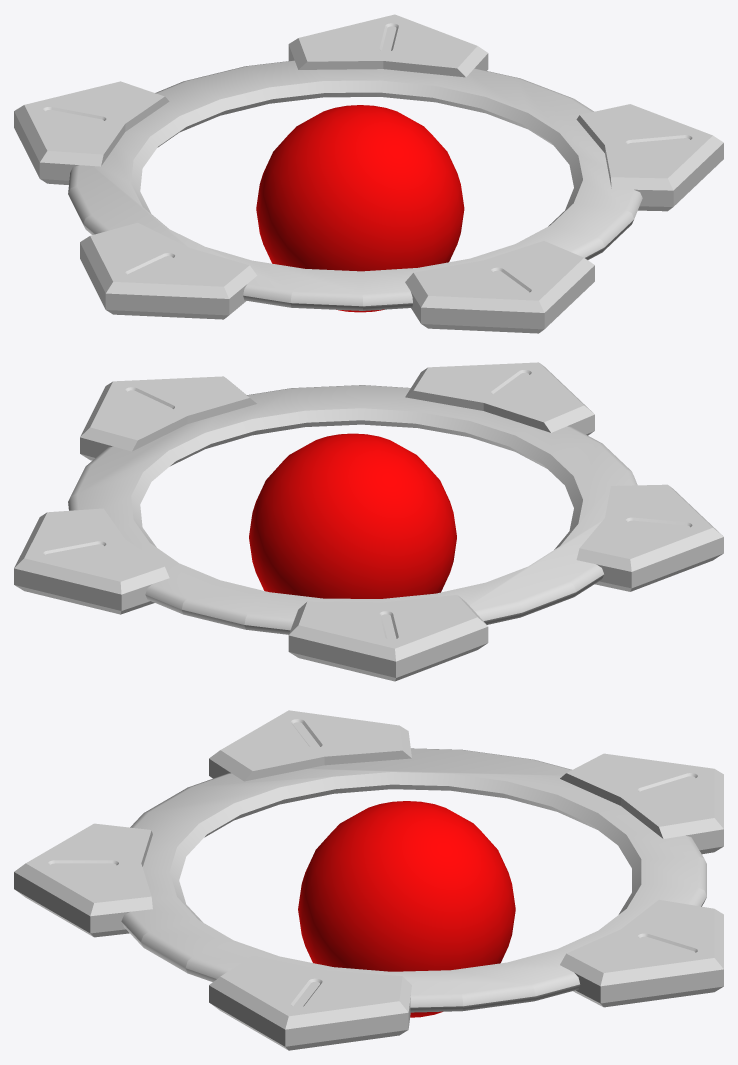
File: DiskPrototypeV1.fbx
The picture shows the model from 3 angles, top to bottom: view 1: azimuth 30°, elevation 25°; view 2: azimuth 150°, elevation 25°; view 3: azimuth 270°, elevation 25°; orthographic projection. The views are drawn at different scales.
Parts seen in each view (by area): view 1: Model, Component_5_1, Component_3_5, Component_3_9, Component_3_4, Component_3_7, Component_3_2, Component_3_10, Component_3_1, Component_3_8, Component_3_6; view 2: Model, Component_5_1, Component_3_7, Component_3_2, Component_3_9, Component_3_4, Component_3_5, Component_3_6, Component_3_3, Component_3_1; view 3: Model, Component_5_1, Component_3_4, Component_3_2, Component_3_5, Component_3_7, Component_3_9, Component_3_8, Component_3_3, Component_3_10.
Boxes of the visible parts, box(x1,y1,x2,y2) form: Model: box(68, 60, 642, 310); Component_5_1: box(256, 105, 464, 312); Component_3_5: box(405, 241, 594, 321); Component_3_9: box(80, 222, 257, 307); Component_3_4: box(576, 104, 723, 198); Component_3_7: box(14, 81, 169, 172); Component_3_2: box(288, 14, 488, 77); Component_3_10: box(411, 273, 594, 333); Component_3_1: box(80, 251, 246, 319); Component_3_8: box(638, 151, 723, 211); Component_3_6: box(14, 120, 69, 184); Model: box(68, 385, 637, 634); Component_5_1: box(249, 433, 456, 598); Component_3_7: box(288, 595, 488, 669); Component_3_2: box(14, 508, 169, 602); Component_3_9: box(576, 484, 723, 579); Component_3_4: box(80, 376, 256, 451); Component_3_5: box(405, 362, 594, 432); Component_3_6: box(288, 635, 488, 681); Component_3_3: box(14, 576, 154, 614); Component_3_1: box(595, 545, 723, 591); Model: box(121, 748, 706, 1012); Component_5_1: box(298, 801, 515, 1017); Component_3_4: box(209, 955, 411, 1038); Component_3_2: box(560, 899, 723, 994); Component_3_5: box(14, 823, 152, 924); Component_3_7: box(560, 753, 723, 842); Component_3_9: box(209, 710, 411, 781); Component_3_8: box(209, 994, 410, 1050); Component_3_3: box(573, 978, 723, 1007); Component_3_10: box(14, 880, 129, 937).
Size of the model in its own units: 9.85 by 2.88 by 9.37.
